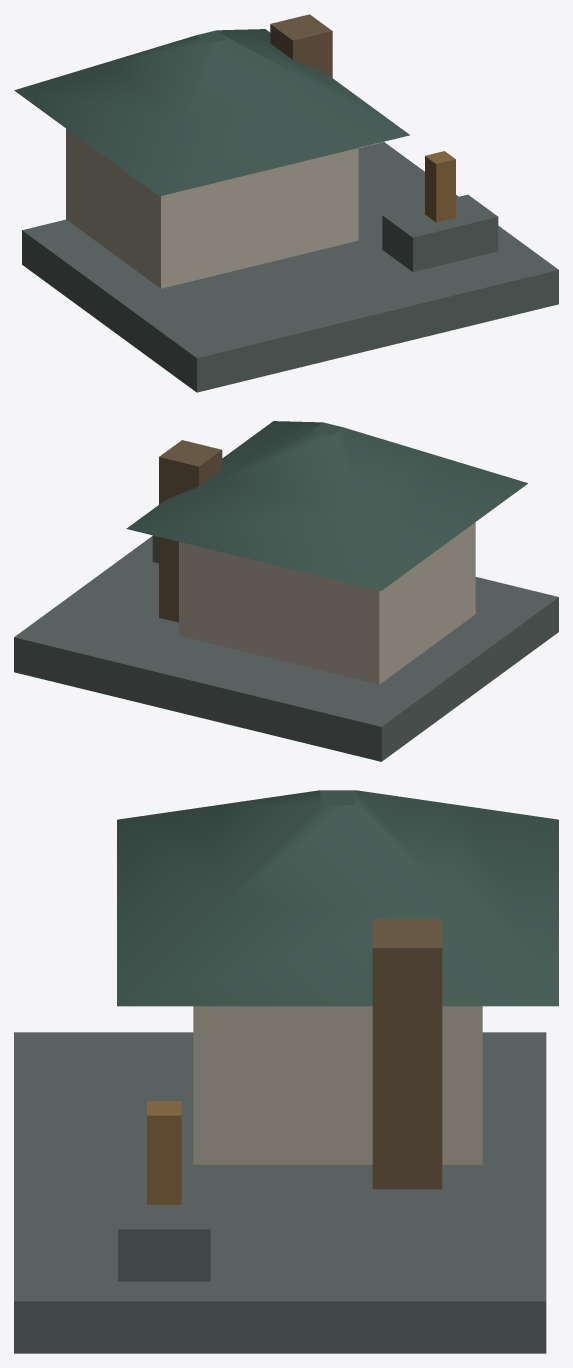
The model's file is qi_tang_fen_feng.glb.
The picture shows the model from 3 angles, top to bottom: view 1: azimuth 30°, elevation 25°; view 2: azimuth 150°, elevation 25°; view 3: azimuth 270°, elevation 25°; orthographic projection. The views are drawn at different scales.
Parts seen in each view (by area): view 1: _MeshInstance3D_92, _MeshInstance3D_94, _MeshInstance3D_93, _MeshInstance3D_96, _MeshInstance3D_95, _MeshInstance3D_97; view 2: _MeshInstance3D_92, _MeshInstance3D_94, _MeshInstance3D_93, _MeshInstance3D_95; view 3: _MeshInstance3D_92, _MeshInstance3D_94, _MeshInstance3D_93, _MeshInstance3D_95, _MeshInstance3D_96, _MeshInstance3D_97.
Boxes of the visible parts, x1,y1,x2,y2 form: _MeshInstance3D_92: (22, 142, 558, 392); _MeshInstance3D_94: (14, 29, 409, 196); _MeshInstance3D_93: (66, 128, 358, 288); _MeshInstance3D_96: (382, 194, 498, 271); _MeshInstance3D_95: (270, 14, 332, 77); _MeshInstance3D_97: (425, 151, 455, 222); _MeshInstance3D_92: (14, 536, 558, 761); _MeshInstance3D_94: (126, 421, 527, 590); _MeshInstance3D_93: (179, 522, 475, 684); _MeshInstance3D_95: (159, 440, 222, 622); _MeshInstance3D_92: (14, 1032, 546, 1353); _MeshInstance3D_94: (117, 790, 558, 1006); _MeshInstance3D_93: (193, 1006, 482, 1164); _MeshInstance3D_95: (372, 918, 442, 1189); _MeshInstance3D_96: (118, 1165, 210, 1281); _MeshInstance3D_97: (147, 1101, 181, 1204).
Bounding box in the file's own units: 1.11 × 0.72 × 0.9418.
